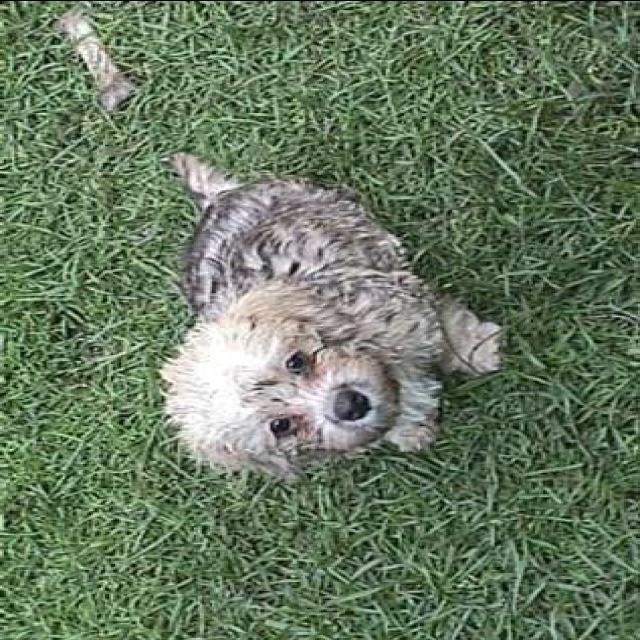dandie_dinmont: (157, 145, 505, 477)
